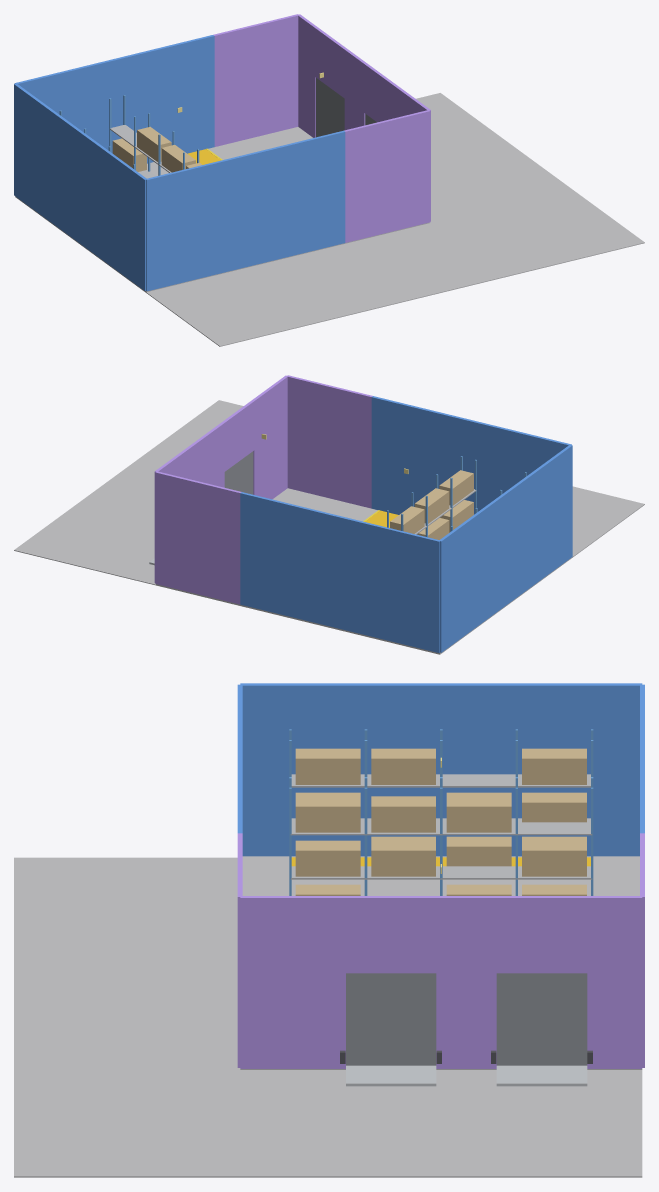
The model's file is warehouse.gltf.
3 views of the same model, one above another, from view 1: azimuth 30°, elevation 25°; view 2: azimuth 150°, elevation 25°; view 3: azimuth 270°, elevation 25° (orthographic). The views are drawn at different scales.
Visible parts, largest first — view 1: SITE|GROUND|plane|0, WALL|F0|storage|wS_seg0, WALL|F0|storage|wW_seg0, WALL|F0|storage|wN_seg0, WALL|F0|dispatch|wS_seg0, WALL|F0|dispatch|wN_seg0, WALL|F0|dispatch|wE_seg0, WALL|F0|dispatch|wE_seg2, WALL|F0|dispatch|wE_seg1, WALL|F0|dispatch|wE_seg3, FLOOR|F0|slab|1, DOOR|F0|dispatch|dock0_0 (+5 smaller); view 2: WALL|F0|storage|wN_seg0, WALL|F0|storage|wW_seg0, SITE|GROUND|plane|0, WALL|F0|storage|wS_seg0, WALL|F0|dispatch|wN_seg0, WALL|F0|dispatch|wS_seg0, WALL|F0|dispatch|wE_seg4, WALL|F0|dispatch|wE_seg3, FLOOR|F0|slab|1, WALL|F0|dispatch|wE_seg2, WALL|F0|dispatch|wE_seg1, DOOR|F0|dispatch|dock0_1 (+7 smaller); view 3: SITE|GROUND|plane|0, WALL|F0|storage|wW_seg0, WALL|F0|dispatch|wE_seg4, WALL|F0|dispatch|wE_seg2, WALL|F0|dispatch|wE_seg0, DOOR|F0|dispatch|dock0_0, DOOR|F0|dispatch|dock0_1, WALL|F0|dispatch|wE_seg1, WALL|F0|dispatch|wE_seg3, FLOOR|F0|slab|0, FURN|F0|storage|goods0r1L2s1, FURN|F0|storage|goods0r1L2s3 (+21 smaller).
Part boxes in pixels (<box>): SITE|GROUND|plane|0: <box>15,93,644,346</box>; WALL|F0|storage|wS_seg0: <box>146,130,345,291</box>; WALL|F0|storage|wW_seg0: <box>14,83,147,290</box>; WALL|F0|storage|wN_seg0: <box>14,35,214,163</box>; WALL|F0|dispatch|wS_seg0: <box>344,110,430,242</box>; WALL|F0|dispatch|wN_seg0: <box>213,14,298,146</box>; WALL|F0|dispatch|wE_seg0: <box>298,14,317,137</box>; WALL|F0|dispatch|wE_seg2: <box>344,49,366,130</box>; WALL|F0|dispatch|wE_seg1: <box>315,27,346,98</box>; WALL|F0|dispatch|wE_seg3: <box>364,63,396,122</box>; FLOOR|F0|slab|1: <box>215,127,429,243</box>; DOOR|F0|dispatch|dock0_0: <box>316,78,344,137</box>; WALL|F0|storage|wN_seg0: <box>240,492,440,652</box>; WALL|F0|storage|wW_seg0: <box>439,445,572,652</box>; SITE|GROUND|plane|0: <box>14,400,644,654</box>; WALL|F0|storage|wS_seg0: <box>371,396,571,514</box>; WALL|F0|dispatch|wN_seg0: <box>155,471,241,604</box>; WALL|F0|dispatch|wS_seg0: <box>286,375,372,508</box>; WALL|F0|dispatch|wE_seg4: <box>252,375,287,499</box>; WALL|F0|dispatch|wE_seg3: <box>222,400,254,471</box>; FLOOR|F0|slab|1: <box>156,488,370,605</box>; WALL|F0|dispatch|wE_seg2: <box>202,422,224,487</box>; WALL|F0|dispatch|wE_seg1: <box>173,436,204,482</box>; DOOR|F0|dispatch|dock0_1: <box>224,451,253,494</box>; SITE|GROUND|plane|0: <box>14,857,642,1177</box>; WALL|F0|storage|wW_seg0: <box>240,683,642,856</box>; WALL|F0|dispatch|wE_seg4: <box>240,896,345,1068</box>; WALL|F0|dispatch|wE_seg2: <box>436,896,496,1068</box>; WALL|F0|dispatch|wE_seg0: <box>587,896,642,1068</box>; DOOR|F0|dispatch|dock0_0: <box>496,973,587,1065</box>; DOOR|F0|dispatch|dock0_1: <box>346,973,436,1065</box>; WALL|F0|dispatch|wE_seg1: <box>496,896,587,973</box>; WALL|F0|dispatch|wE_seg3: <box>346,896,436,973</box>; FLOOR|F0|slab|0: <box>242,856,639,895</box>; FURN|F0|storage|goods0r1L2s1: <box>446,796,511,832</box>; FURN|F0|storage|goods0r1L2s3: <box>295,796,360,832</box>.
Bounding box in the file's own units: 30.1 × 7.65 × 25.1.
